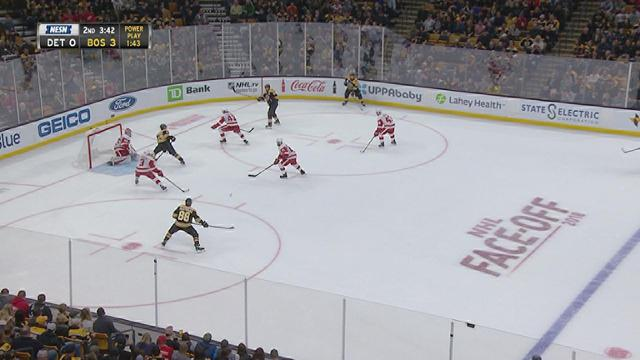geico: (38, 108, 93, 140)
